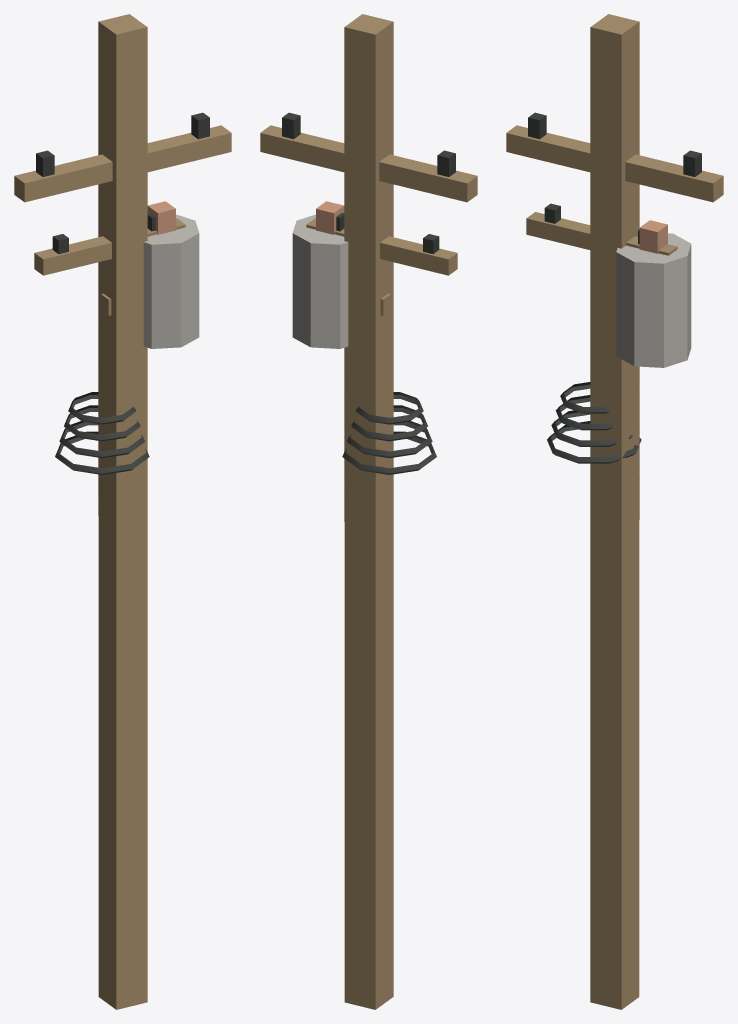
File: retained-utility-pole.glb
The picture shows the model from 3 angles, left to right: view 1: azimuth 30°, elevation 25°; view 2: azimuth 150°, elevation 25°; view 3: azimuth 330°, elevation 25°; orthographic projection.
Visible parts, largest first — view 1: retained-utility-pole; view 2: retained-utility-pole; view 3: retained-utility-pole.
Boxes of the visible parts, x1,y1,x2,y2 form: retained-utility-pole: [14, 14, 231, 1009]; retained-utility-pole: [260, 14, 477, 1009]; retained-utility-pole: [506, 14, 723, 1009].
Size of the model in its own units: 1.6 by 7.2 by 0.6342.
